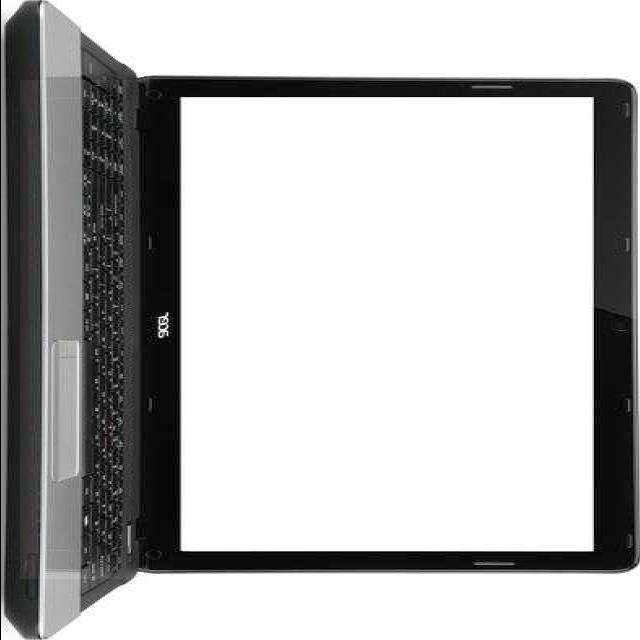-keyboard-: (20, 80, 636, 579)
